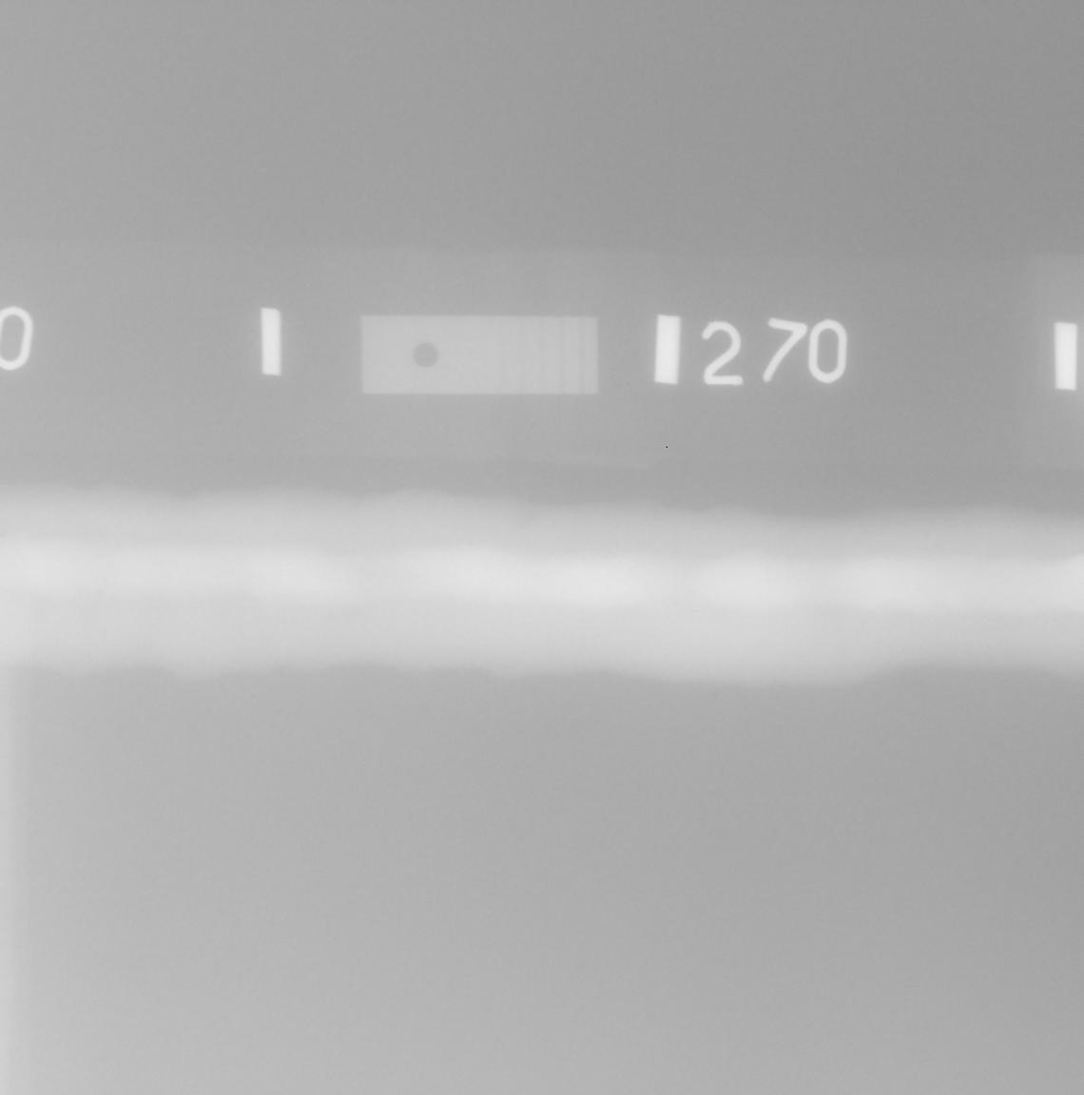Pore/Porosity: (99, 590, 103, 595)
Reference Standard 1: (361, 315, 599, 394)
